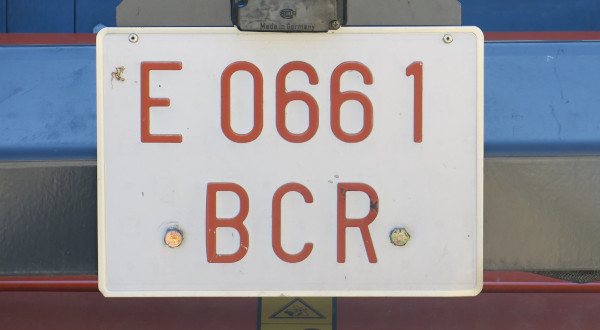license_plate: (95, 26, 484, 296)
